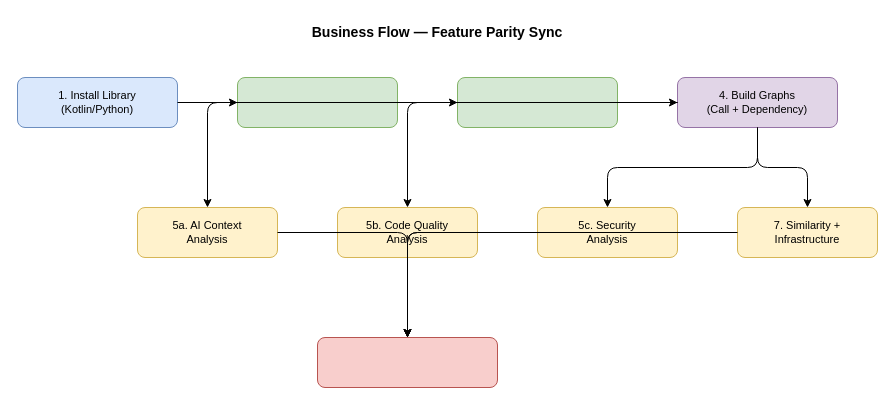
Some shapes in this 895 by 405 pixel diagram are drawn without their labels. Each missing label, with the box of its shape:
2. Initialize Tree-sitter Parsers: (236, 76, 398, 128)
3. Parse Source Files → AST: (456, 76, 618, 128)
6. Expose via MCP Tools / API: (316, 336, 498, 388)
